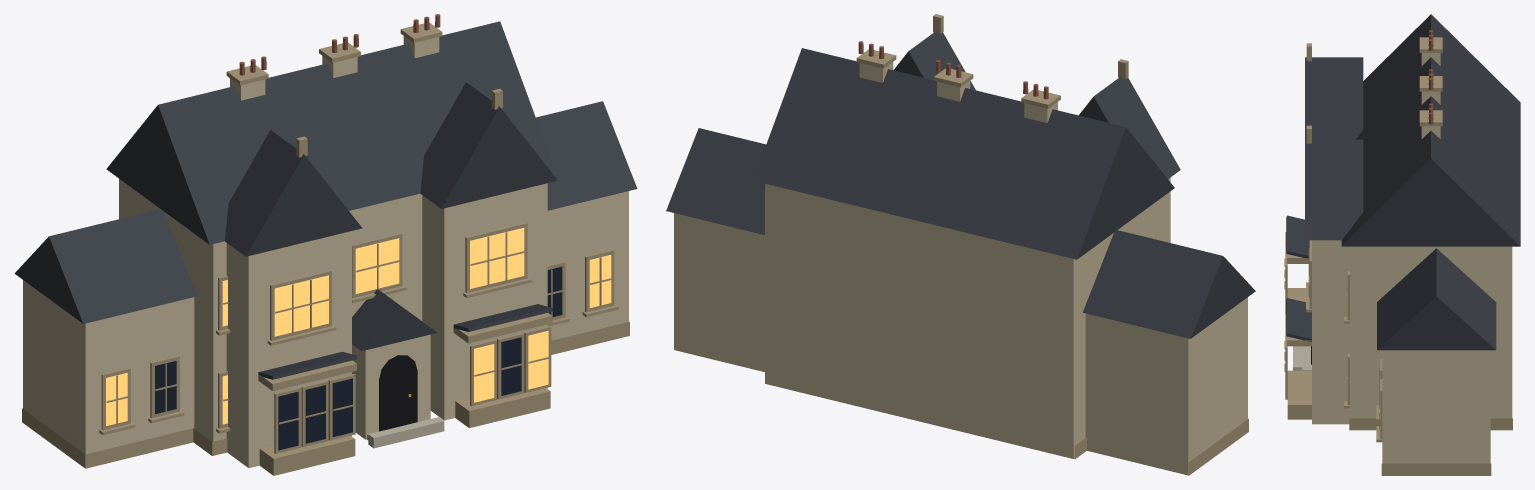
Rendered from mansion_stone.glb.
3 renders of one model, left to right at view 1: azimuth 30°, elevation 25°; view 2: azimuth 150°, elevation 25°; view 3: azimuth 270°, elevation 25°, orthographic. The views are drawn at different scales.
Parts seen in each view (by area): view 1: mansion_stone; view 2: mansion_stone; view 3: mansion_stone.
Boxes of the visible parts, bbox=[...] form: mansion_stone: bbox=[14, 14, 637, 475]; mansion_stone: bbox=[666, 14, 1255, 475]; mansion_stone: bbox=[1284, 14, 1520, 475].
Size of the model in its own units: 20.4 by 11.95 by 8.72.
